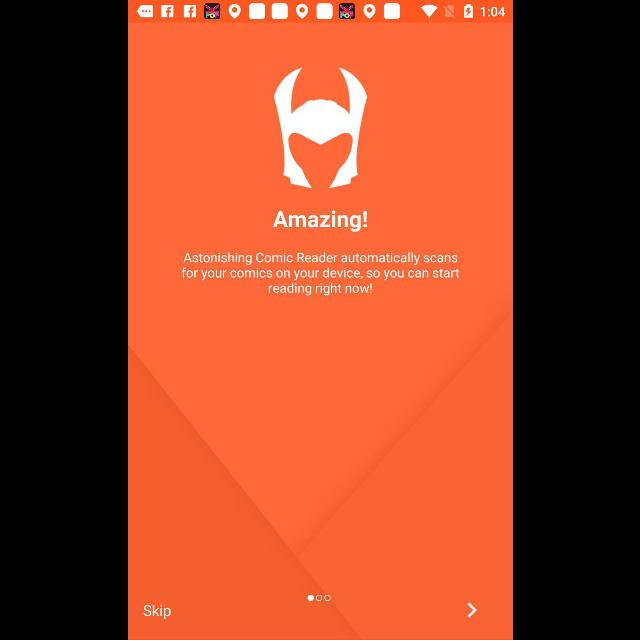icon: (467, 602, 477, 618)
image: (272, 66, 366, 190)
pageindicator: (307, 594, 331, 602)
text: (180, 252, 460, 296), (272, 210, 368, 233), (144, 604, 170, 620)
uppertaskbar: (128, 1, 512, 23)
